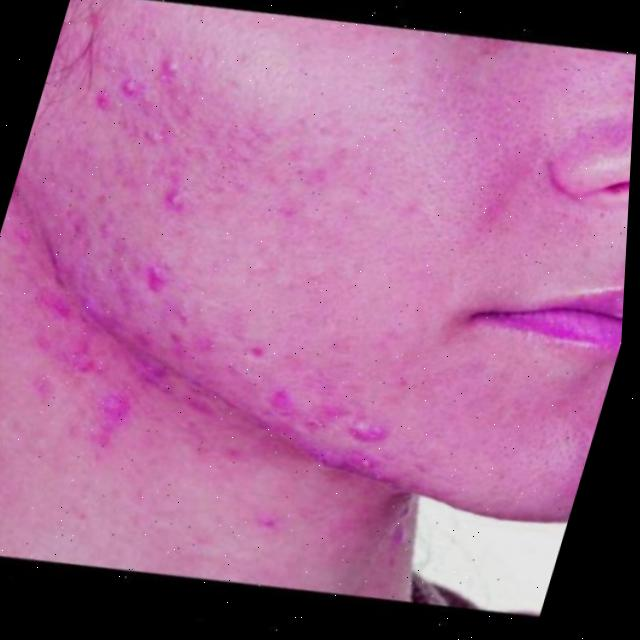Acne: (0, 47, 510, 515)
